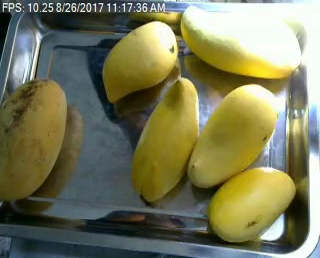Mango: (187, 83, 278, 190), (180, 6, 302, 78), (0, 79, 66, 200), (134, 79, 200, 199), (209, 167, 297, 242), (102, 20, 178, 103)
